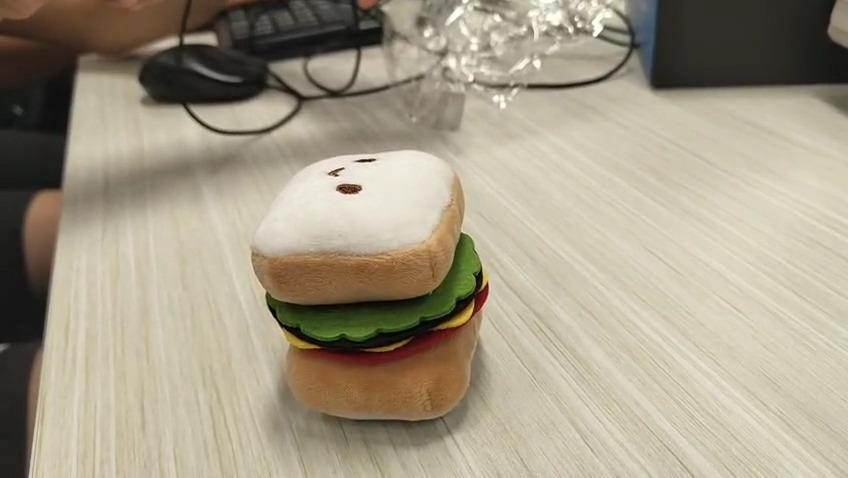objects: (251, 150, 489, 420)
